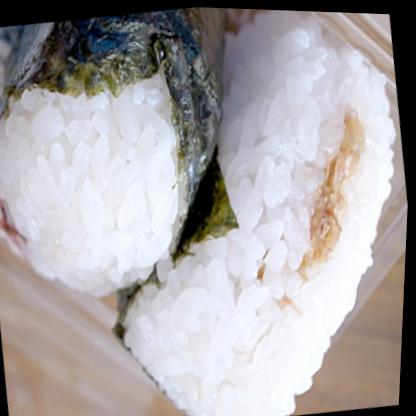rice roll: (0, 3, 217, 306), (199, 37, 414, 338), (127, 215, 334, 415)
